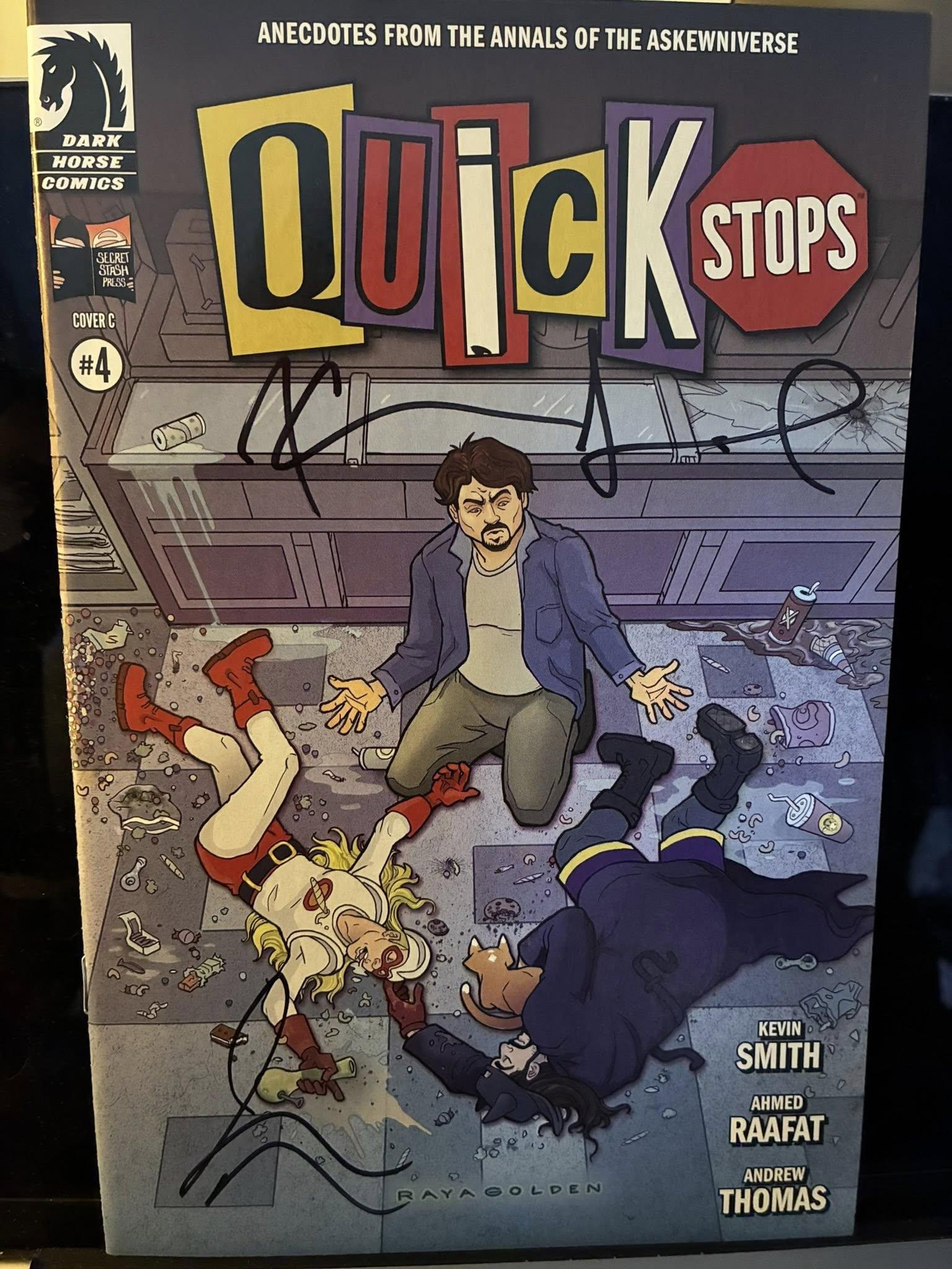comic: (29, 0, 927, 1255)
